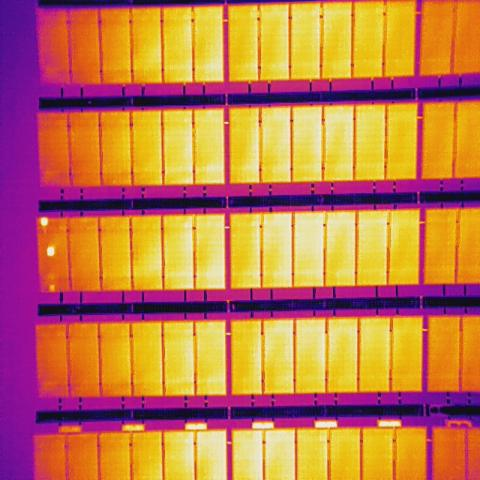fault: (39, 216, 50, 228), (46, 246, 55, 258), (48, 284, 56, 293)
